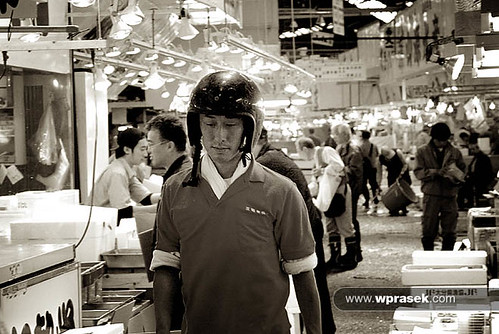helmet: (186, 64, 260, 154)
